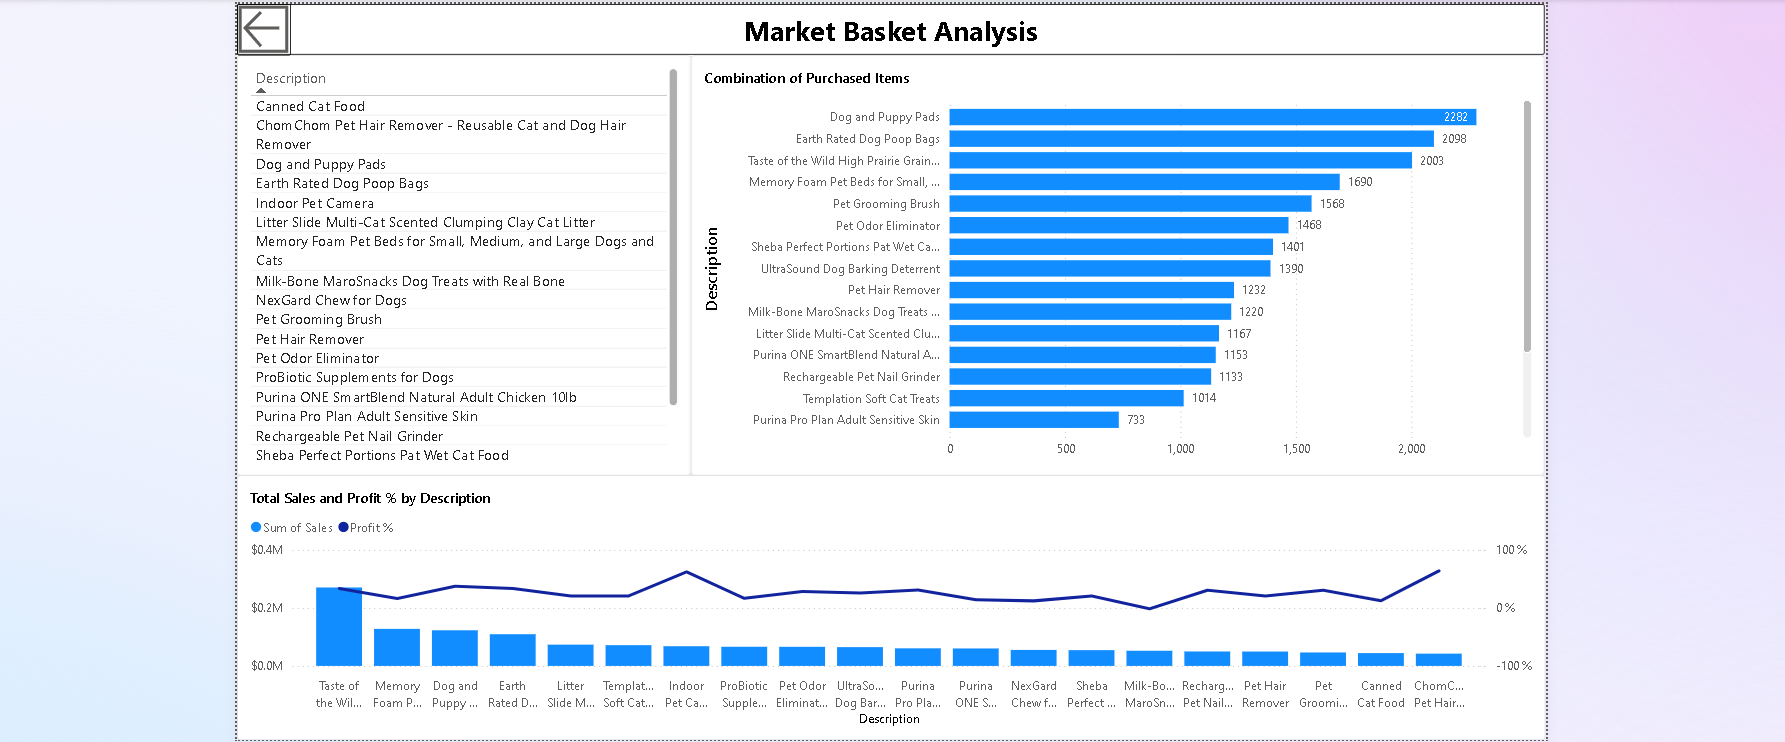

Layout of this report page (visuals, bound fields, positions):
{"tool":"powerbi","page":{"name":"Market Basket Analysis","canvas":[1280,720],"ordinal":2},"visuals":[{"type":"tableEx","fields":{"Values":["Sales.Description"]},"box":[0,49.7,444.5,411.4],"z":0},{"type":"barChart","title":"Combination of Purchased Items","fields":{"Category":["Market Basket.Description"],"Y":["CountNonNull(Market Basket.Description)"]},"box":[444.5,49.7,835.5,411.4],"z":1000},{"type":"lineStackedColumnComboChart","title":"Total Sales and Profit % by Description","fields":{"Category":["Products.Description"],"Y":["Sum(Sales.Sales)"],"Y2":["New_Measures.Profit %"]},"box":[0,461.1,1280.4,258.9],"z":2000},{"type":"textbox","box":[0,0,1279.5,49.7],"z":3000},{"type":"actionButton","box":[0,0,52.6,50.1],"z":4000}]}

Visuals, with their boxes on the page's 1280x720 design canvas (x1, y1, x2, y2). These are canvas units, not pixel positions in the 1785x742 screenshot, which may show the page scaled, cropped or inside an application window:
tableEx - Sales.Description: {"x1": 0, "y1": 50, "x2": 444, "y2": 461}
"Combination of Purchased Items" barChart: {"x1": 444, "y1": 50, "x2": 1280, "y2": 461}
"Total Sales and Profit % by Description" lineStackedColumnComboChart: {"x1": 0, "y1": 461, "x2": 1280, "y2": 720}
textbox: {"x1": 0, "y1": 0, "x2": 1280, "y2": 50}
actionButton: {"x1": 0, "y1": 0, "x2": 53, "y2": 50}
